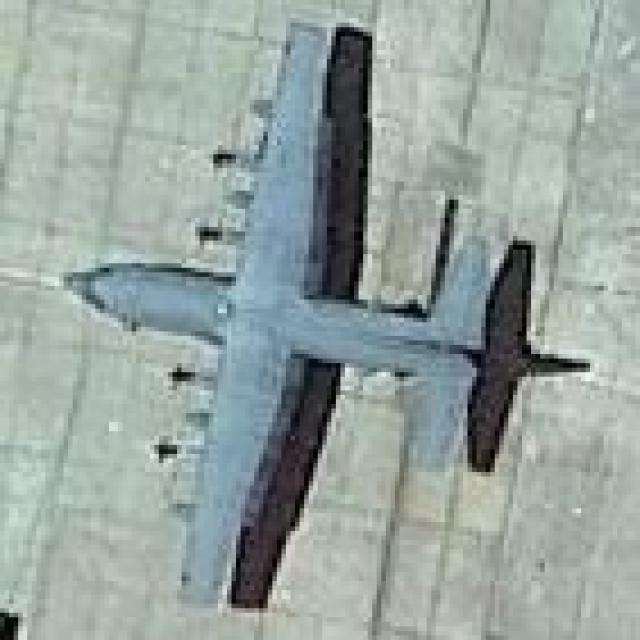C-130_TopDown: (62, 12, 594, 615)
